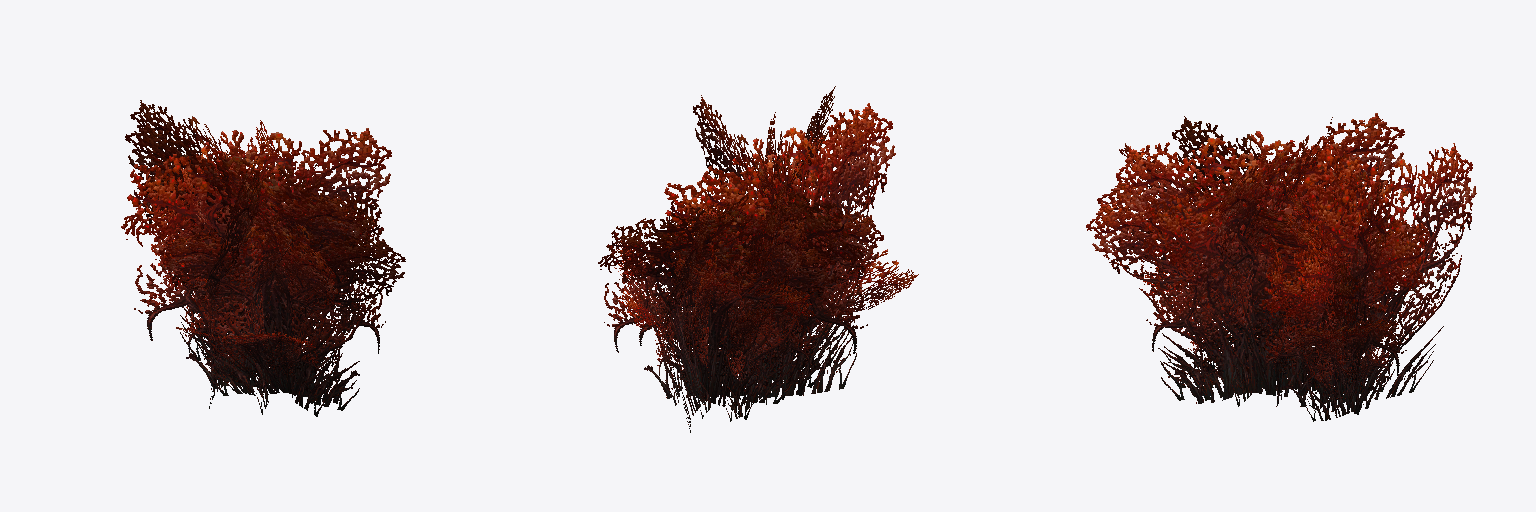
3 renders of one model, left to right at view 1: azimuth 30°, elevation 25°; view 2: azimuth 150°, elevation 25°; view 3: azimuth 270°, elevation 25°, orthographic.
Parts seen in each view (by area): view 1: borean_bush_01; view 2: borean_bush_01; view 3: borean_bush_01.
Part boxes in pixels (x1,y1,x2,y2): borean_bush_01: (121,100,405,416); borean_bush_01: (598,86,918,432); borean_bush_01: (1086,113,1476,421).
Bounding box in the file's own units: 1.26 × 1.14 × 1.61.
1 materials, 1 textured.